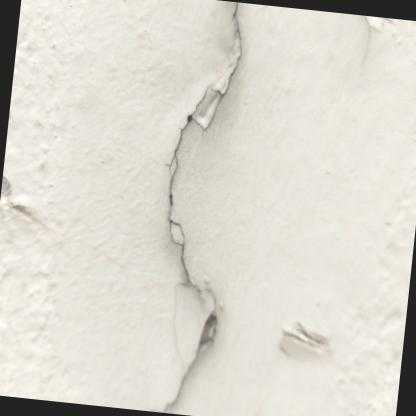crack: (161, 2, 244, 413)
